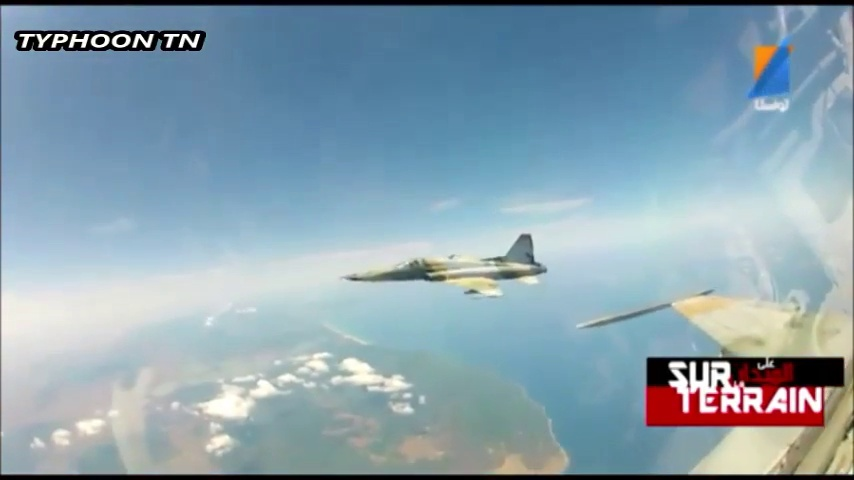Airplane: (343, 228, 553, 301)
